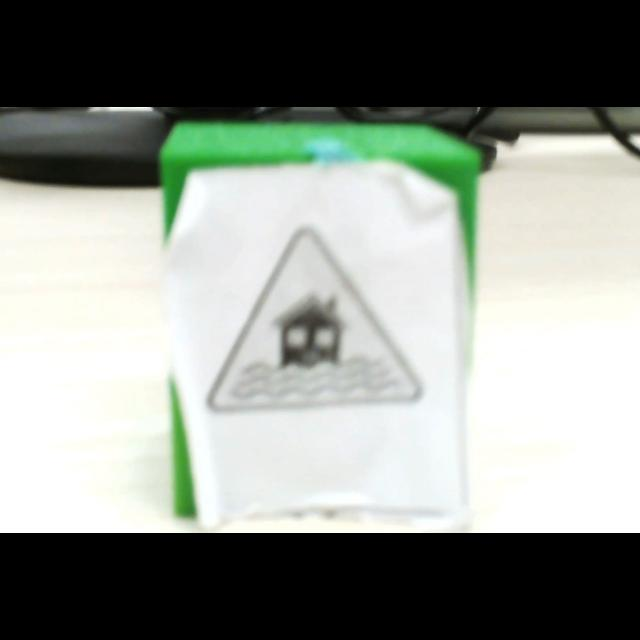Tsunami: (209, 228, 422, 410)
